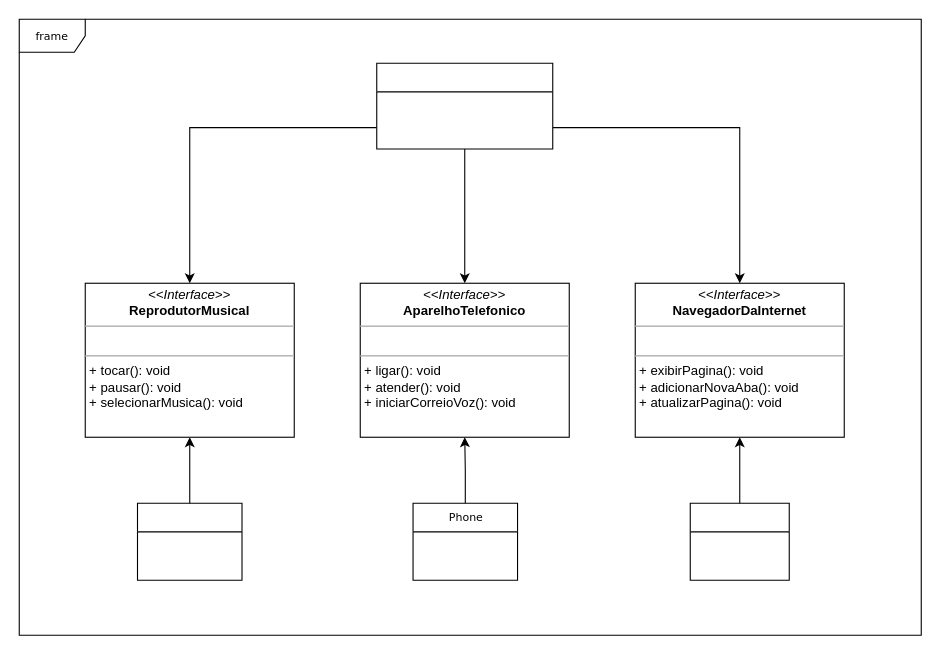
The diagram is 941 pixels wide and 655 high, and some of its shapes have lost their labels. Here are the shapes that lost their labels. From the top down, the centre of each, then its label:
At (464,105): "CelularIphone".
At (189,541): "Ipod".
At (739,541): "Internet".
